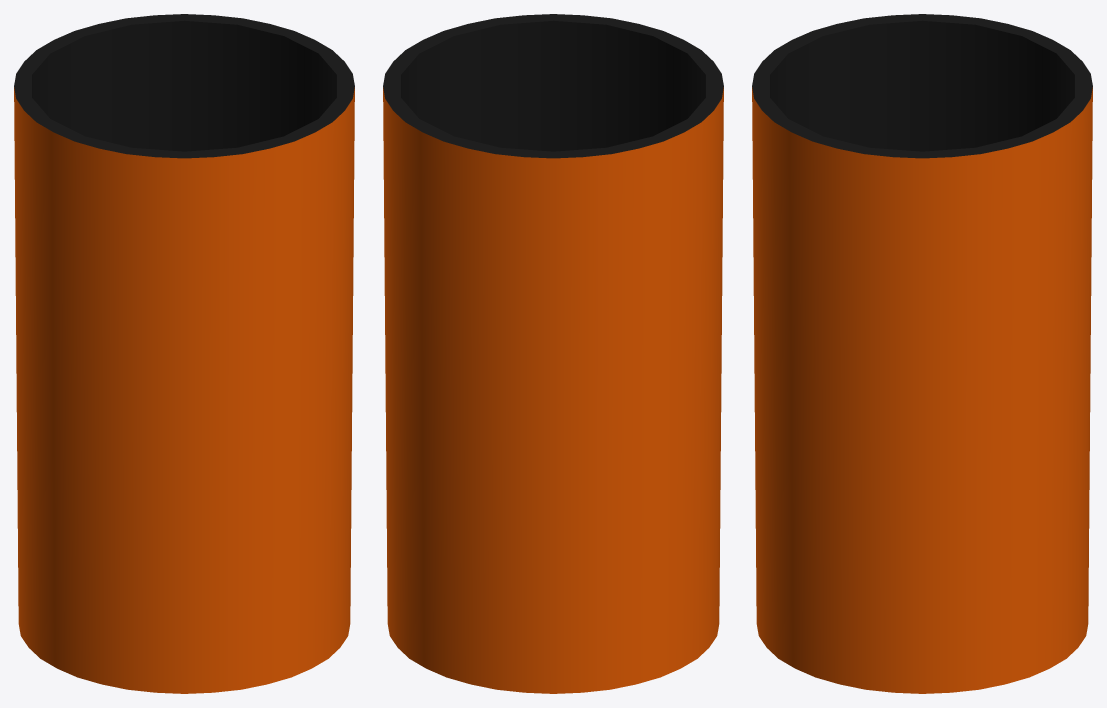
Rendered from Pencil Box.fbx.
3 renders of one model, left to right at view 1: azimuth 30°, elevation 25°; view 2: azimuth 150°, elevation 25°; view 3: azimuth 270°, elevation 25°, orthographic.
Parts seen in each view (by area): view 1: PencilBox; view 2: PencilBox; view 3: PencilBox.
Boxes of the visible parts, box(x1,y1,x2,y2) form: PencilBox: box(14, 14, 354, 693); PencilBox: box(383, 14, 723, 693); PencilBox: box(752, 14, 1092, 693).
Bounding box in the file's own units: 8.83 × 15.31 × 8.8.
